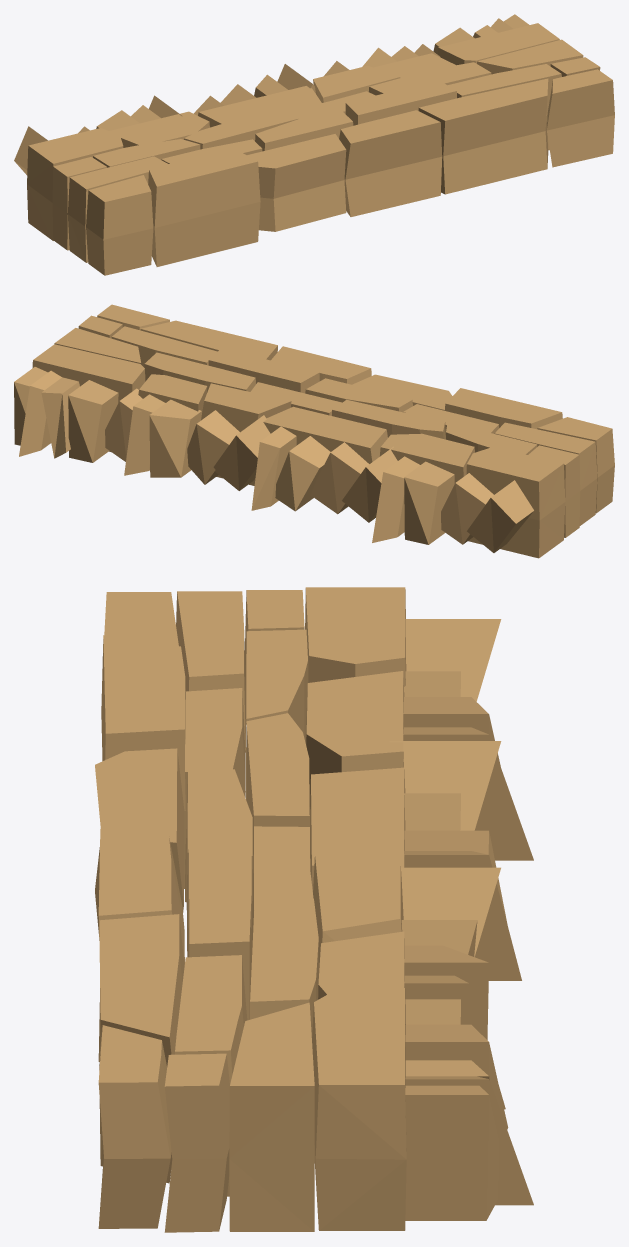
File: SM_StoneWall.FBX
The picture shows the model from 3 angles, top to bottom: view 1: azimuth 30°, elevation 25°; view 2: azimuth 150°, elevation 25°; view 3: azimuth 270°, elevation 25°; orthographic projection. The views are drawn at different scales.
Parts seen in each view (by area): view 1: SM_StoneWall; view 2: SM_StoneWall; view 3: SM_StoneWall.
Part boxes in pixels (bbox=[...]): SM_StoneWall: bbox=[14, 14, 614, 275]; SM_StoneWall: bbox=[14, 304, 614, 558]; SM_StoneWall: bbox=[95, 587, 533, 1232].
Bounding box in the file's own units: 82.85 × 30.97 × 12.89.
